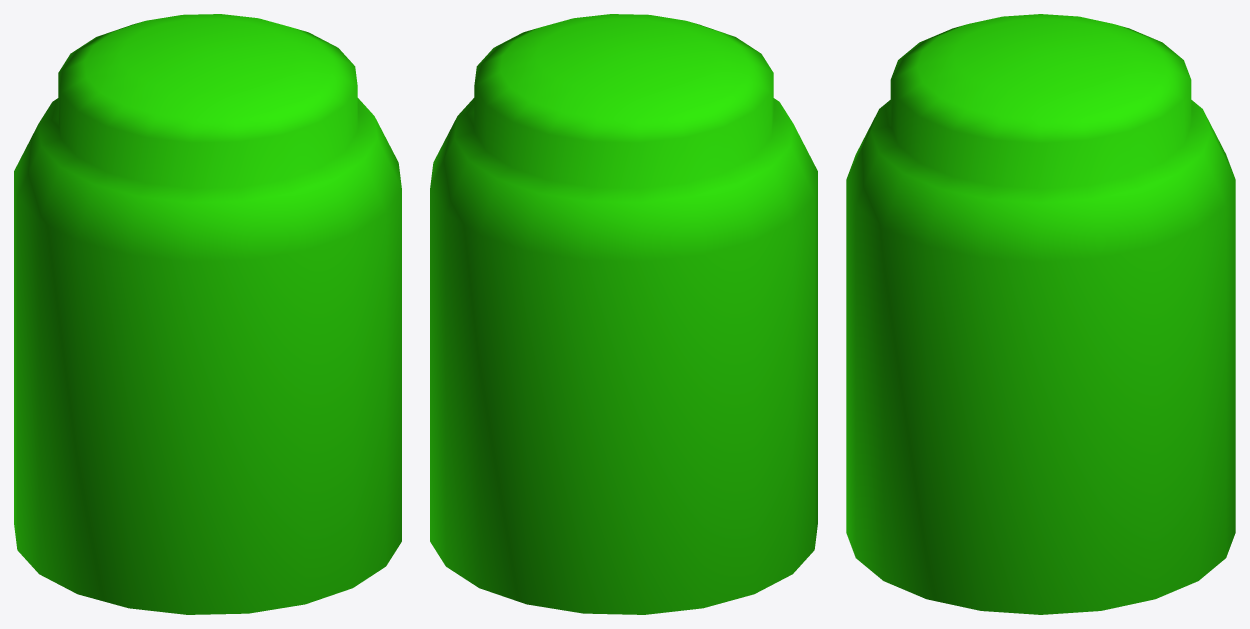
Rendered from Pot_02.fbx.
The picture shows the model from 3 angles, left to right: view 1: azimuth 30°, elevation 25°; view 2: azimuth 150°, elevation 25°; view 3: azimuth 270°, elevation 25°; orthographic projection.
Parts seen in each view (by area): view 1: Pot_02; view 2: Pot_02; view 3: Pot_02.
Boxes of the visible parts, bbox=[...] form: Pot_02: bbox=[14, 14, 401, 614]; Pot_02: bbox=[430, 14, 817, 614]; Pot_02: bbox=[846, 14, 1235, 614].
Bounding box in the file's own units: 19.58 × 26.74 × 19.59.
